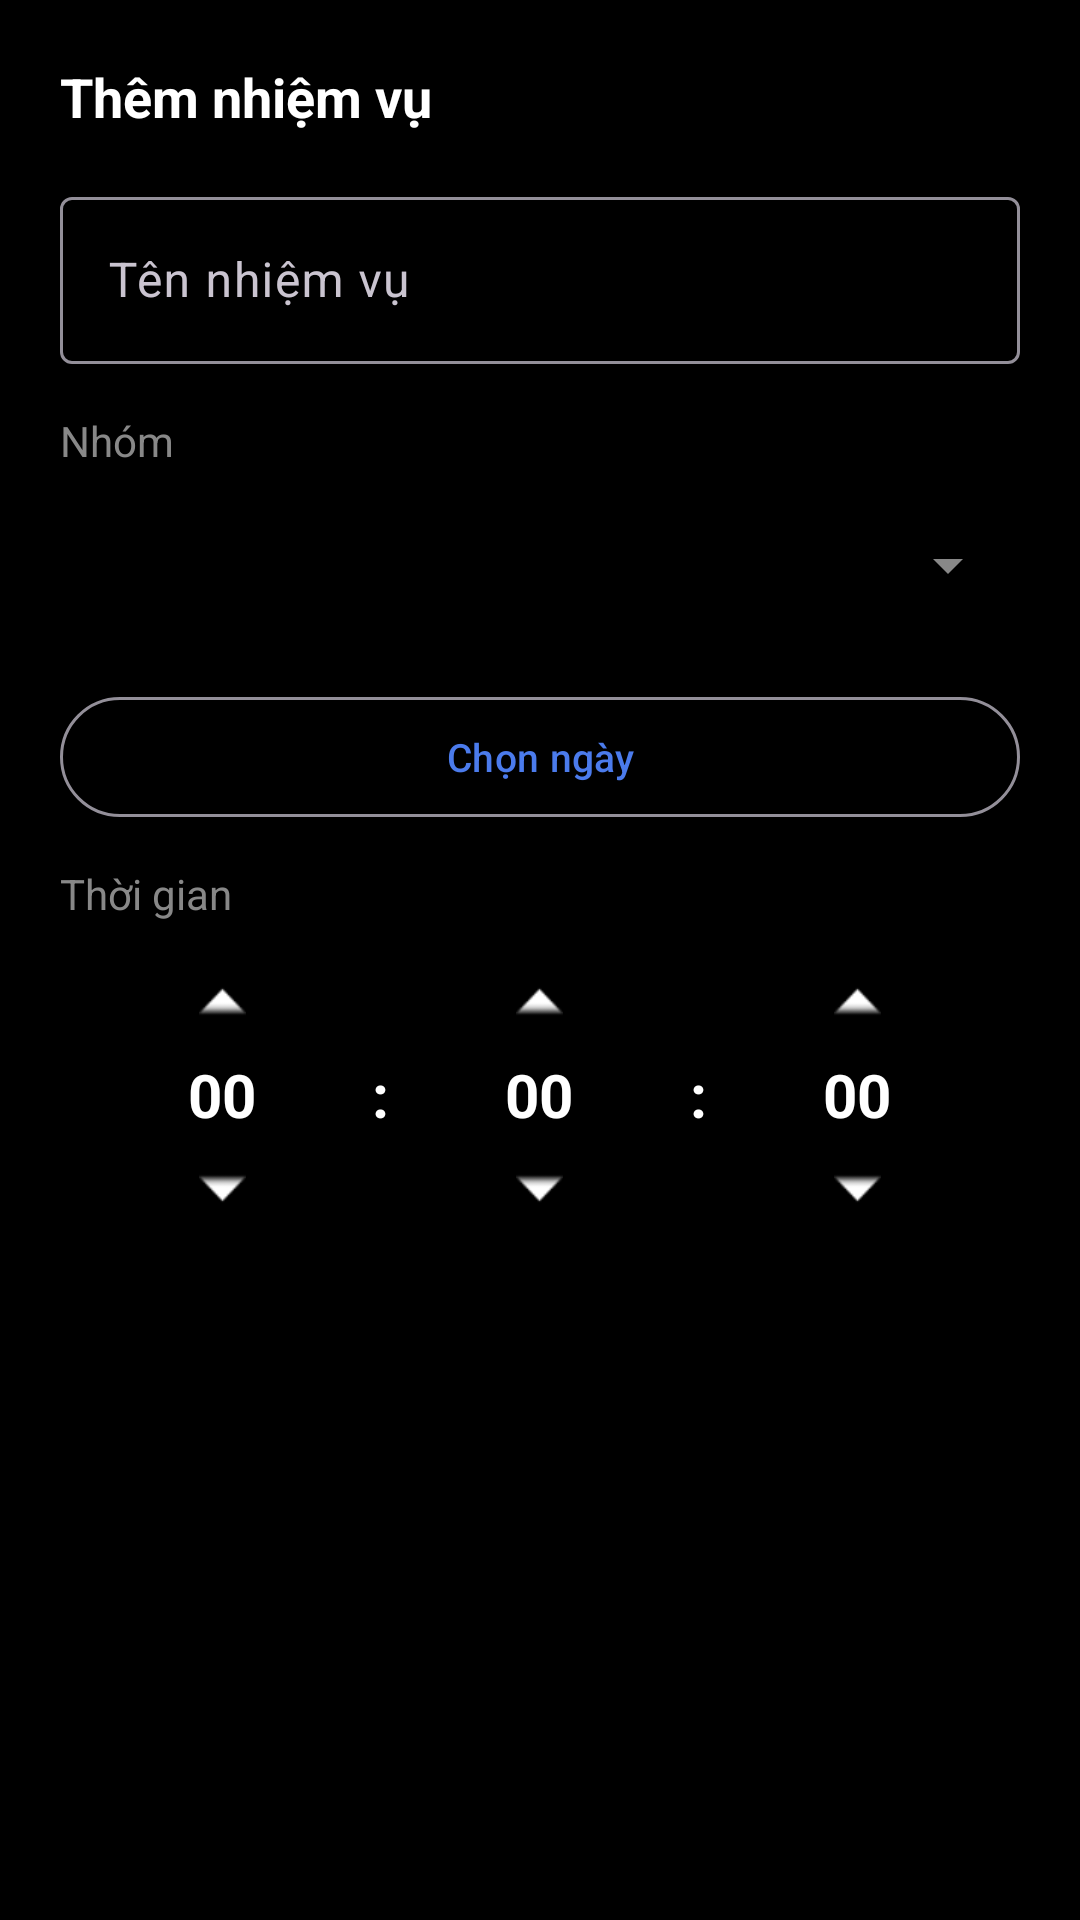

Screen size 1080w x 1920h. Icon name, then its center in pixels as point (x, y):
Giảm giây: point (857, 1189)
Giảm giờ: point (222, 1189)
Giảm phút: point (539, 1189)
Tăng giây: point (857, 1001)
Tăng giờ: point (222, 1001)
Tăng phút: point (539, 1001)
